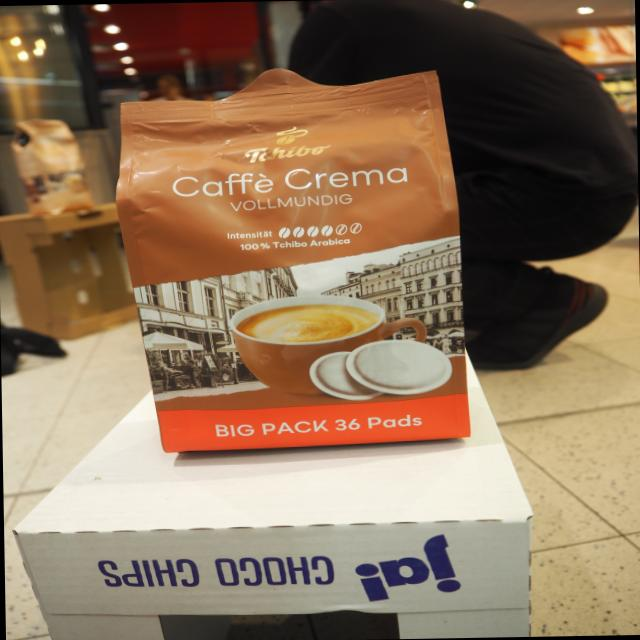CC Vollmundig: (104, 59, 475, 458)
